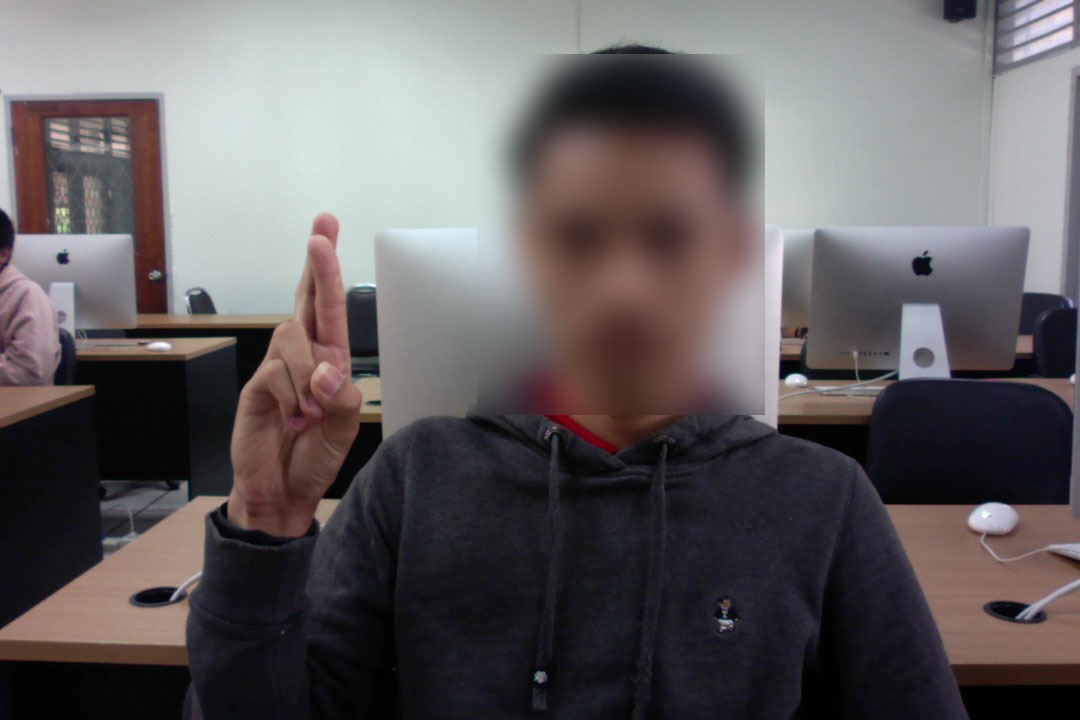rao: (222, 208, 392, 514)
